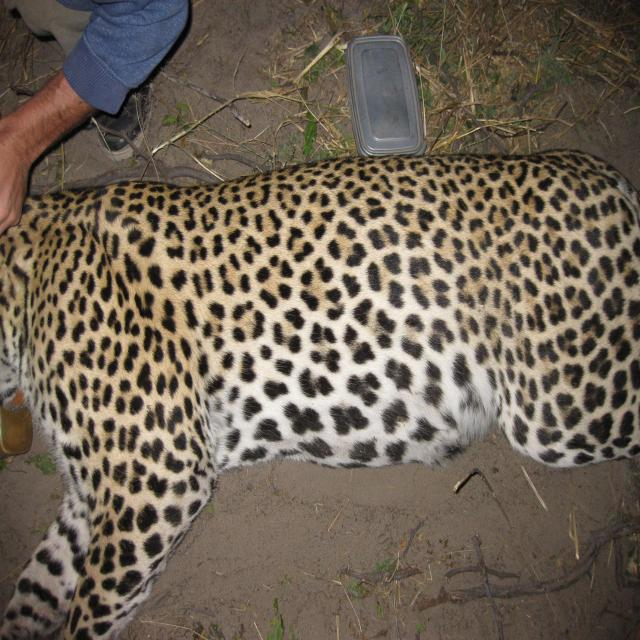Leopard: (0, 68, 640, 604)
